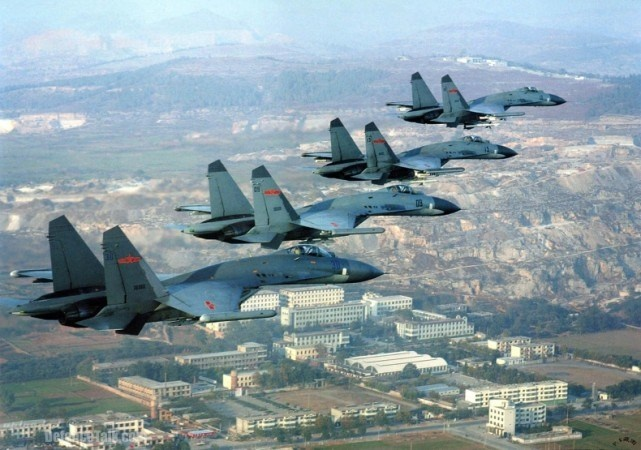airplane: (6, 216, 391, 340), (180, 157, 465, 244), (291, 113, 518, 182), (378, 65, 568, 131)
